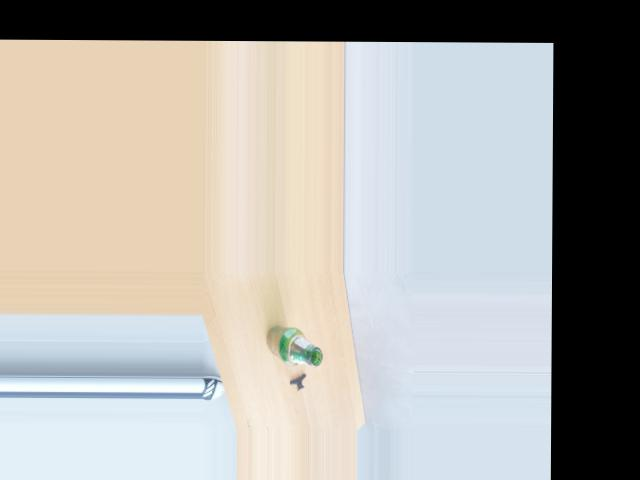beer: (265, 325, 322, 367)
